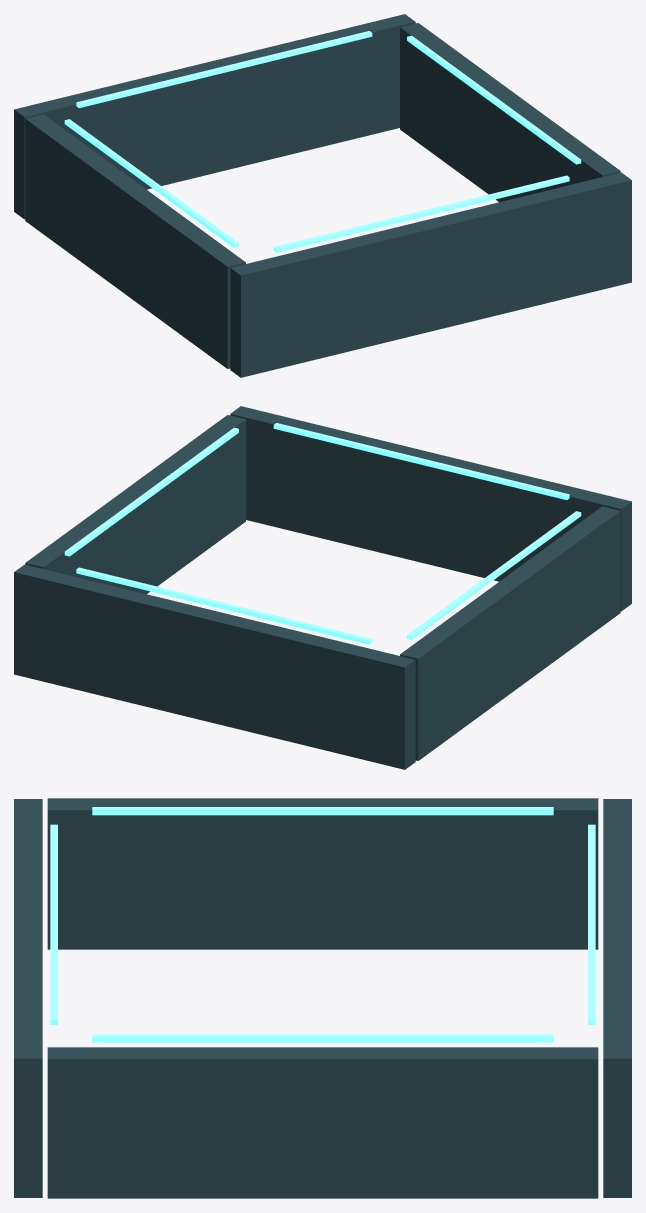
The model's file is sea-frame.glb.
3 views of the same model, one above another, from view 1: azimuth 30°, elevation 25°; view 2: azimuth 150°, elevation 25°; view 3: azimuth 270°, elevation 25° (orthographic). The views are drawn at different scales.
Visible parts, largest first — view 1: RF_sea-frame-x, RF_sea-frame-x.001, RF_sea-frame-y, RF_sea-frame-y.001, RF_sea-light-x, RF_sea-light-x.001, RF_sea-light-y, RF_sea-light-y.001; view 2: RF_sea-frame-x.001, RF_sea-frame-x, RF_sea-frame-y, RF_sea-frame-y.001, RF_sea-light-x.001, RF_sea-light-x, RF_sea-light-y, RF_sea-light-y.001; view 3: RF_sea-frame-y.001, RF_sea-frame-y, RF_sea-frame-x, RF_sea-frame-x.001, RF_sea-light-y, RF_sea-light-y.001, RF_sea-light-x, RF_sea-light-x.001.
Boxes of the visible parts, x1=… form: RF_sea-frame-x: x1=230, y1=172, x2=631, y2=377; RF_sea-frame-x.001: x1=14, y1=14, x2=415, y2=219; RF_sea-frame-y: x1=25, y1=114, x2=245, y2=368; RF_sea-frame-y.001: x1=400, y1=23, x2=620, y2=202; RF_sea-light-x: x1=273, y1=175, x2=569, y2=252; RF_sea-light-x.001: x1=76, y1=31, x2=372, y2=107; RF_sea-light-y: x1=64, y1=119, x2=238, y2=247; RF_sea-light-y.001: x1=407, y1=35, x2=581, y2=164; RF_sea-frame-x.001: x1=14, y1=564, x2=415, y2=769; RF_sea-frame-x: x1=230, y1=406, x2=631, y2=611; RF_sea-frame-y: x1=400, y1=506, x2=620, y2=760; RF_sea-frame-y.001: x1=25, y1=415, x2=245, y2=594; RF_sea-light-x.001: x1=76, y1=567, x2=372, y2=644; RF_sea-light-x: x1=273, y1=423, x2=569, y2=499; RF_sea-light-y: x1=407, y1=511, x2=581, y2=639; RF_sea-light-y.001: x1=64, y1=427, x2=238, y2=556; RF_sea-frame-y.001: x1=47, y1=1047, x2=598, y2=1198; RF_sea-frame-y: x1=47, y1=798, x2=598, y2=949; RF_sea-frame-x: x1=14, y1=799, x2=42, y2=1197; RF_sea-frame-x.001: x1=603, y1=799, x2=631, y2=1197; RF_sea-light-y: x1=92, y1=807, x2=553, y2=815; RF_sea-light-y.001: x1=92, y1=1034, x2=553, y2=1042; RF_sea-light-x: x1=50, y1=824, x2=57, y2=1024; RF_sea-light-x.001: x1=588, y1=824, x2=595, y2=1024.
Size of the model in its own units: 0.965 by 0.2515 by 0.965.
